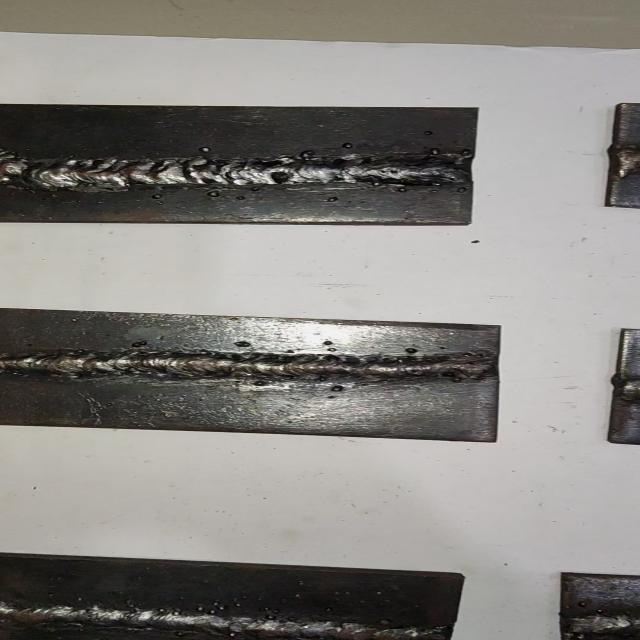Defect: (560, 612, 600, 638)
Welding Line: (0, 156, 476, 190), (2, 605, 455, 640), (0, 352, 497, 379)
Workpiece: (0, 306, 510, 444), (0, 104, 486, 228), (0, 551, 473, 640)
